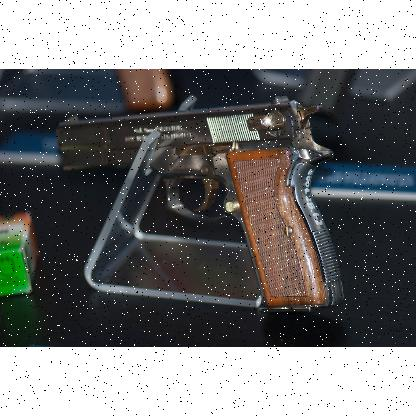gun: (55, 93, 346, 310)
